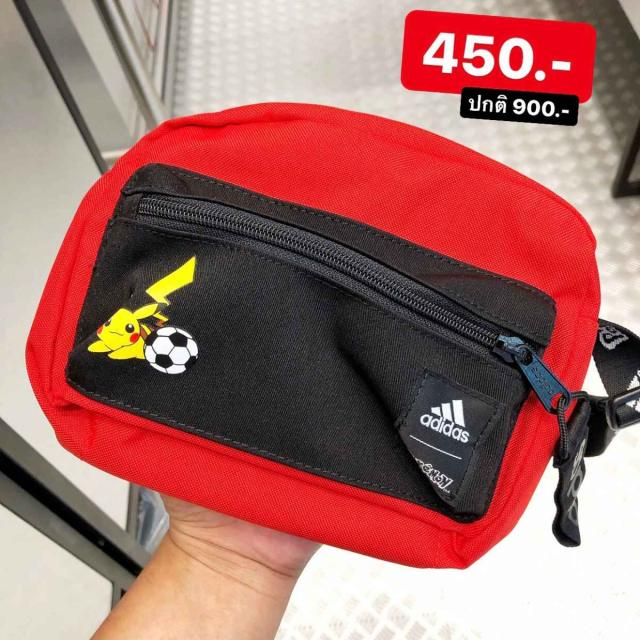Handbag: (21, 100, 602, 570)
